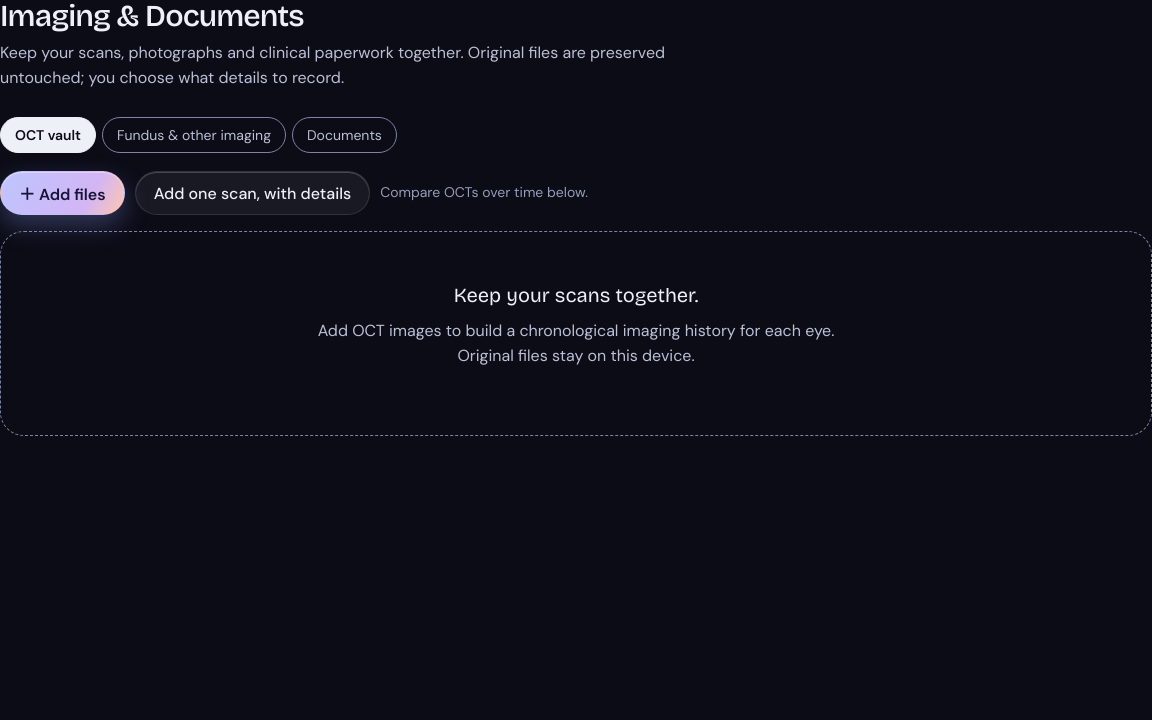
Test: imaging with neither a file nor findings says why it was not saved
Click the button "Add one scan, with details" at {"x": 252, "y": 193}, box 135,171 -> 370,215
(page scrolled)
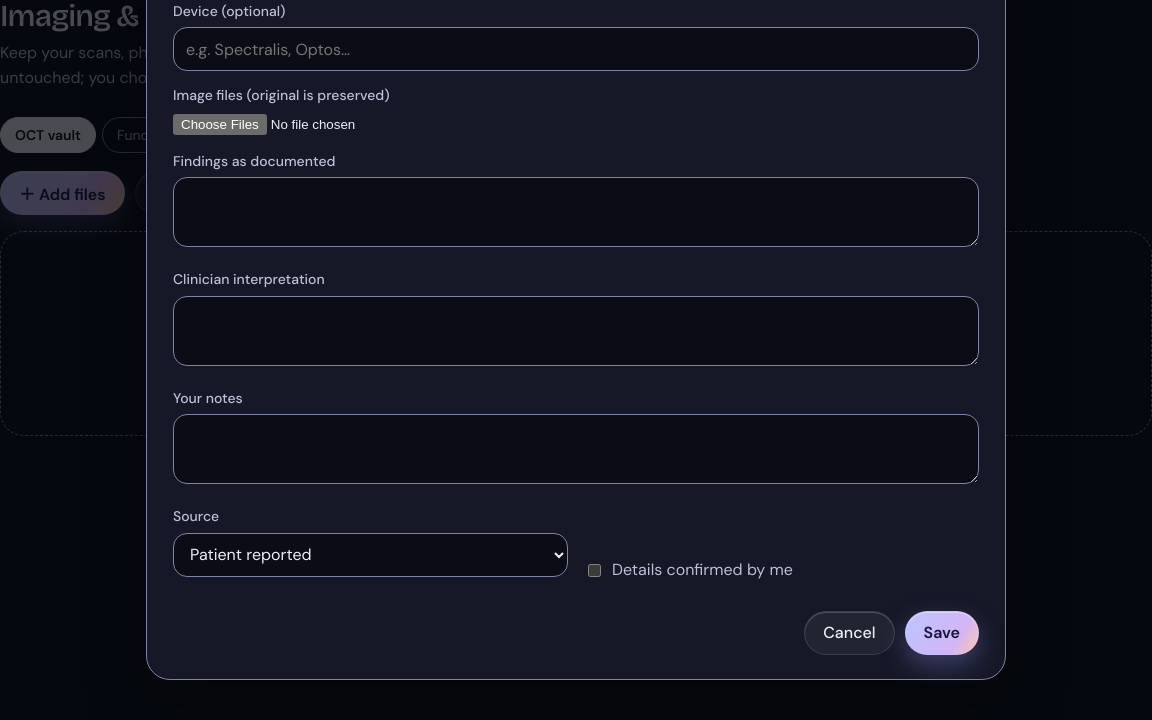
Click the button "Save" at {"x": 942, "y": 633}, box 905,611 -> 979,655
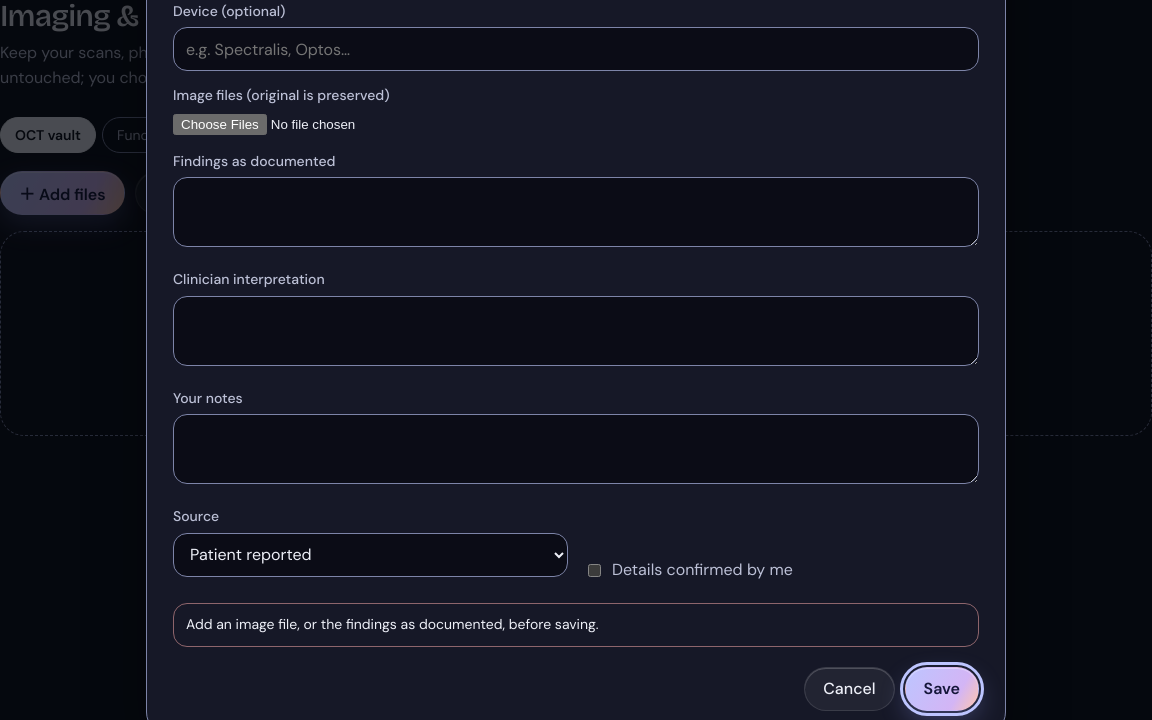
Result: the message shows "Add an image file, or the findings" at 186,615 -> 599,633
